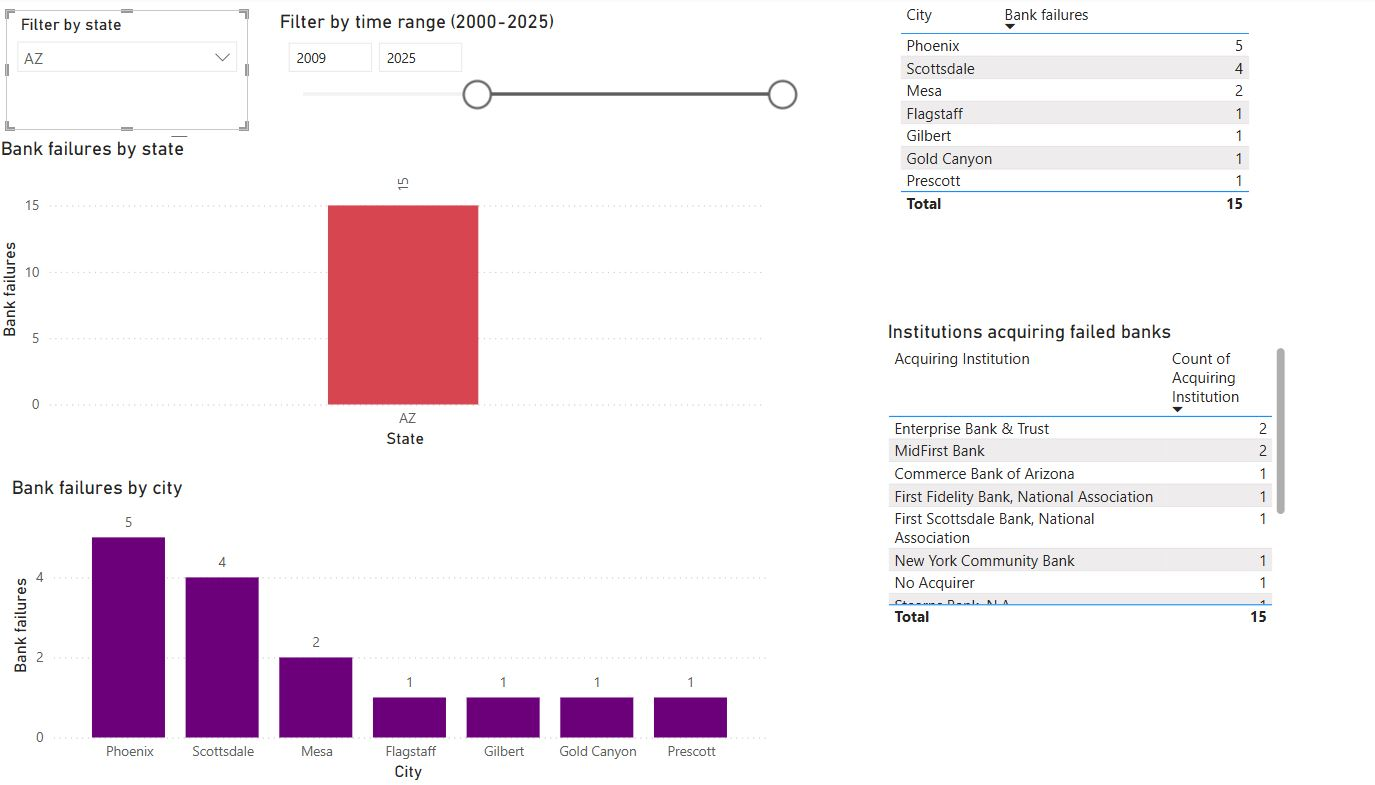

What the dashboard file says about the page in this screenshot:
{"tool":"powerbi","page":{"name":"Main","canvas":[1280,720],"ordinal":0},"visuals":[{"type":"slicer","fields":{"Values":["download-data.State "]},"box":[9.8,11.5,214.6,106.4],"z":0},{"type":"columnChart","title":"Bank failures by state","fields":{"Category":["download-data.State "],"Y":["CountNonNull(download-data.State )"]},"box":[0,124.1,687.2,280.2],"z":1000},{"type":"columnChart","title":"Bank failures by city","fields":{"Category":["download-data.City "],"Y":["CountNonNull(download-data.City )"]},"box":[9.8,424.7,679.2,274.9],"z":2000},{"type":"tableEx","title":"Bank failures by city","fields":{"Values":["download-data.City ","CountNonNull(download-data.City )"]},"box":[797.1,0,352,264.2],"z":3000},{"type":"slicer","title":"Filter by time range (2000-2025)","fields":{"Values":["download-data.custom_year_as_text"]},"box":[247.4,11.5,472.6,106.4],"z":4000},{"type":"tableEx","title":"Institutions acquiring failed banks","fields":{"Values":["download-data.Acquiring Institution ","CountNonNull(download-data.Acquiring Institution )"]},"box":[786.5,286.4,362.7,276.7],"z":5000}]}

Visuals, with their boxes in screenshot pixels (x1, y1, x2, y2), scaled from the page's 1280x720 canvas onto the 1375x785 screenshot:
slicer - download-data.State : (11, 13, 241, 129)
"Bank failures by state" columnChart: (0, 135, 738, 441)
"Bank failures by city" columnChart: (11, 463, 740, 763)
"Bank failures by city" tableEx: (856, 0, 1234, 288)
"Filter by time range (2000-2025)" slicer: (266, 13, 773, 129)
"Institutions acquiring failed banks" tableEx: (845, 312, 1234, 614)
